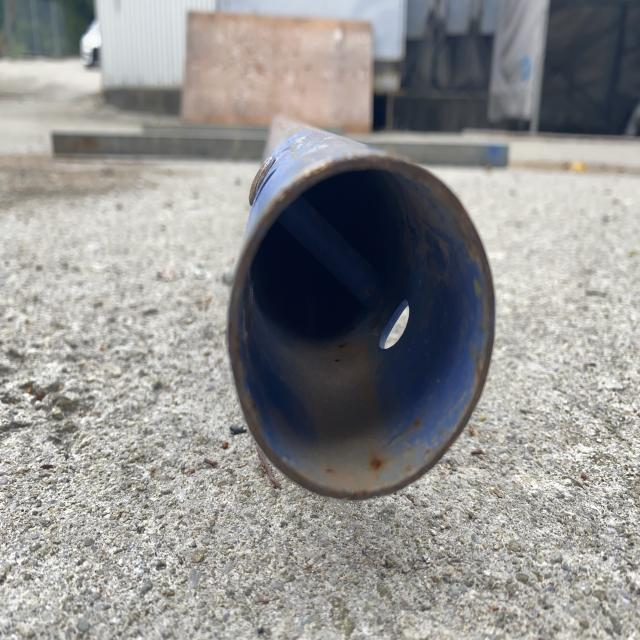pipe: (227, 147, 499, 507)
